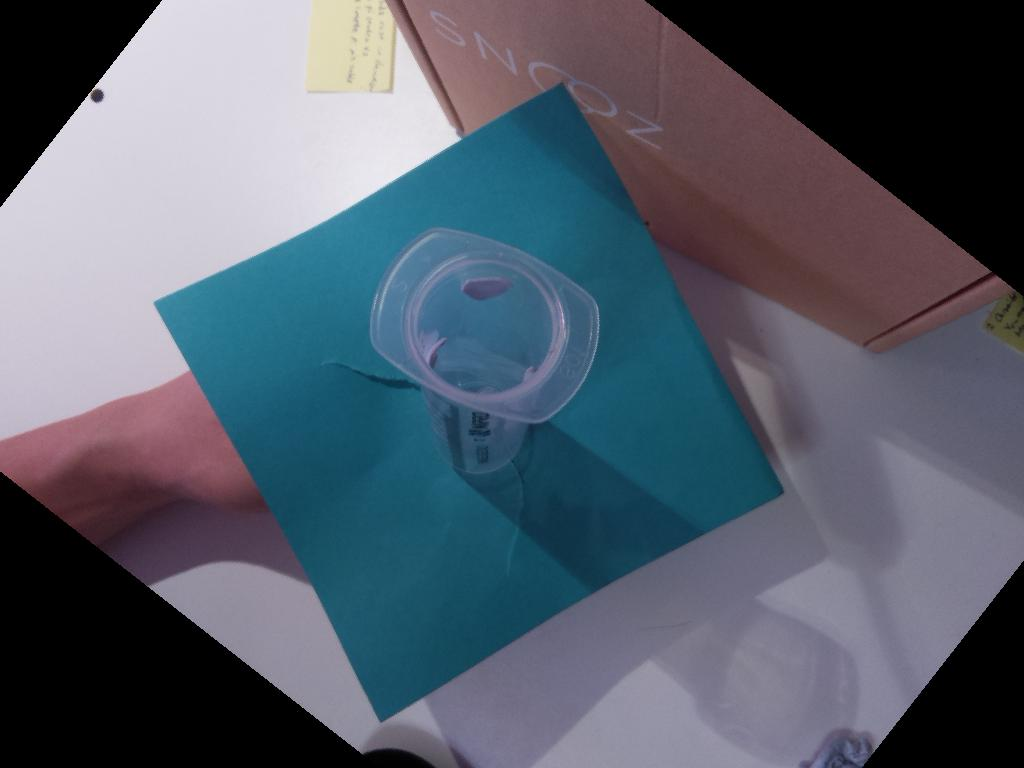dirty: (369, 226, 600, 423)
